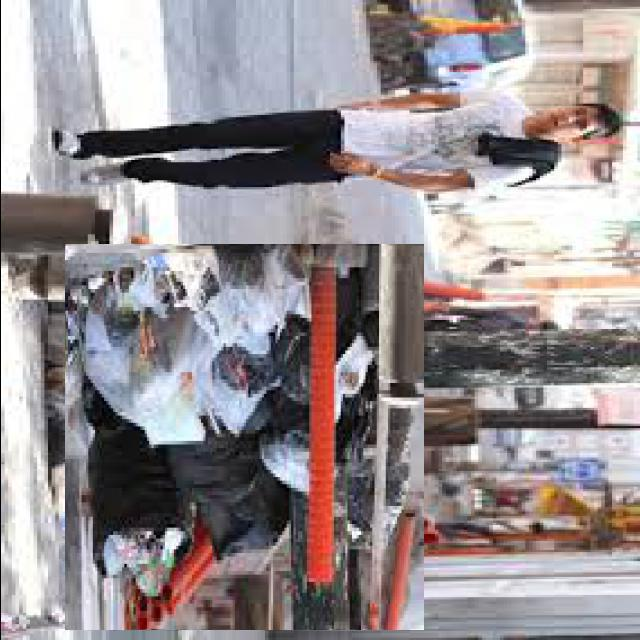Trashbag: (67, 411, 191, 564), (185, 422, 299, 566)
